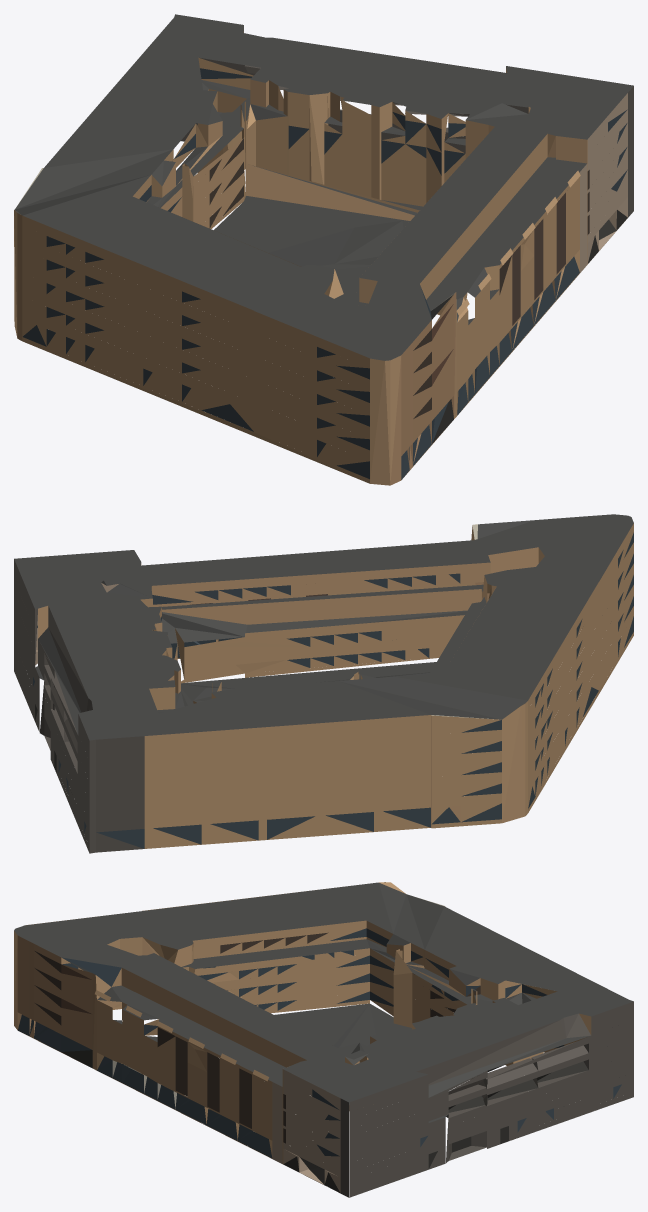
The model's file is revaleiland-121.lod2.glb.
3 views of the same model, one above another, from view 1: azimuth 30°, elevation 25°; view 2: azimuth 150°, elevation 25°; view 3: azimuth 270°, elevation 25° (orthographic). The views are drawn at different scales.
Parts seen in each view (by area): view 1: lod2; view 2: lod2; view 3: lod2.
Boxes of the visible parts, box(x1,y1,x2,y2) form: lod2: box(14, 14, 633, 485); lod2: box(14, 514, 633, 853); lod2: box(14, 882, 633, 1197).
Size of the model in its own units: 82.74 by 17.75 by 98.5.
